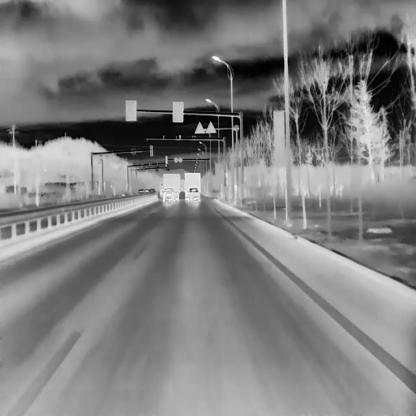car: (163, 173, 179, 200), (184, 172, 200, 199), (162, 188, 175, 202), (186, 187, 199, 201), (149, 187, 157, 195), (159, 180, 163, 196), (138, 188, 144, 193), (144, 189, 150, 194)
